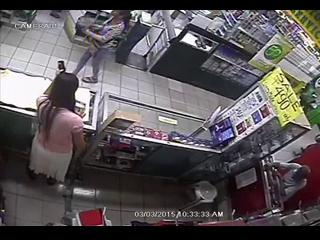Normal: (27, 70, 89, 188), (72, 11, 130, 84)
